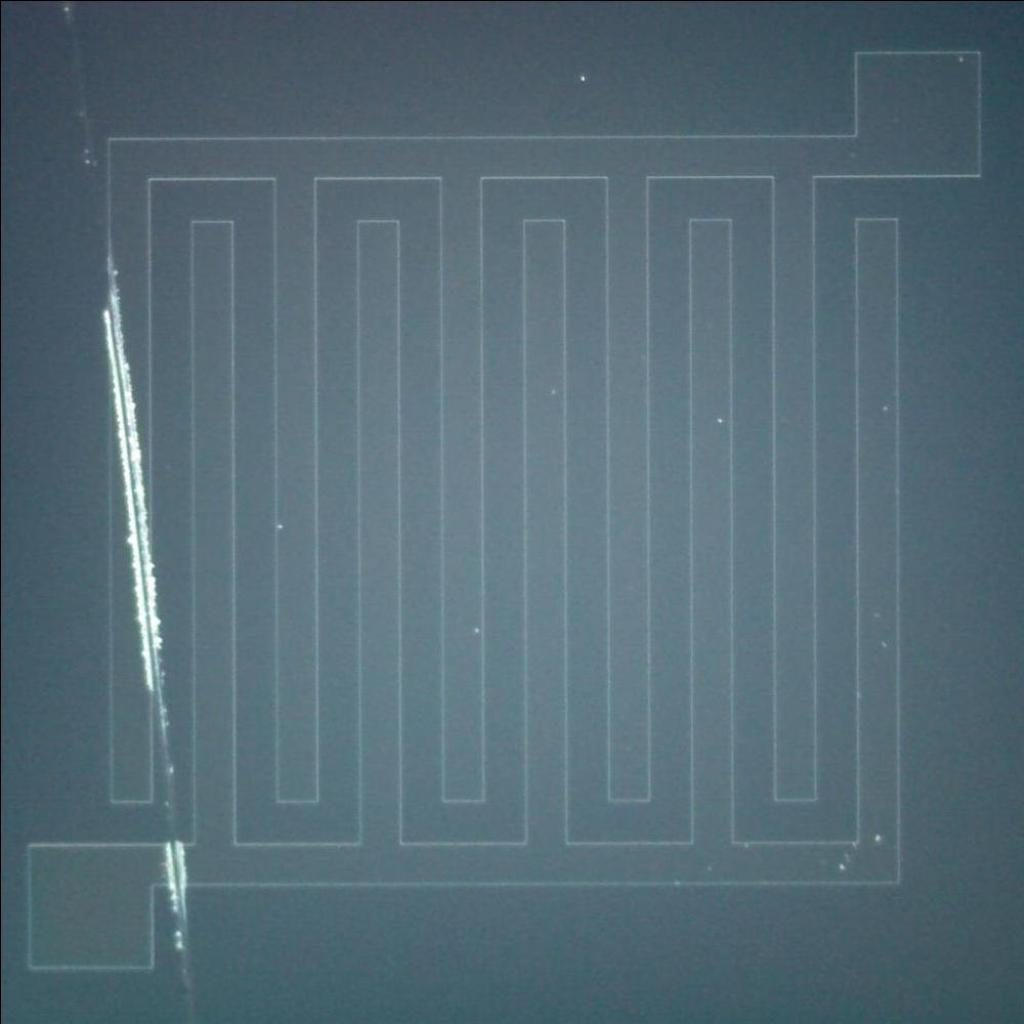dot: (864, 819, 892, 853), (826, 854, 852, 878), (708, 408, 731, 431), (269, 516, 287, 537), (574, 68, 591, 89)
scratch: (99, 268, 169, 693), (153, 831, 196, 949)
